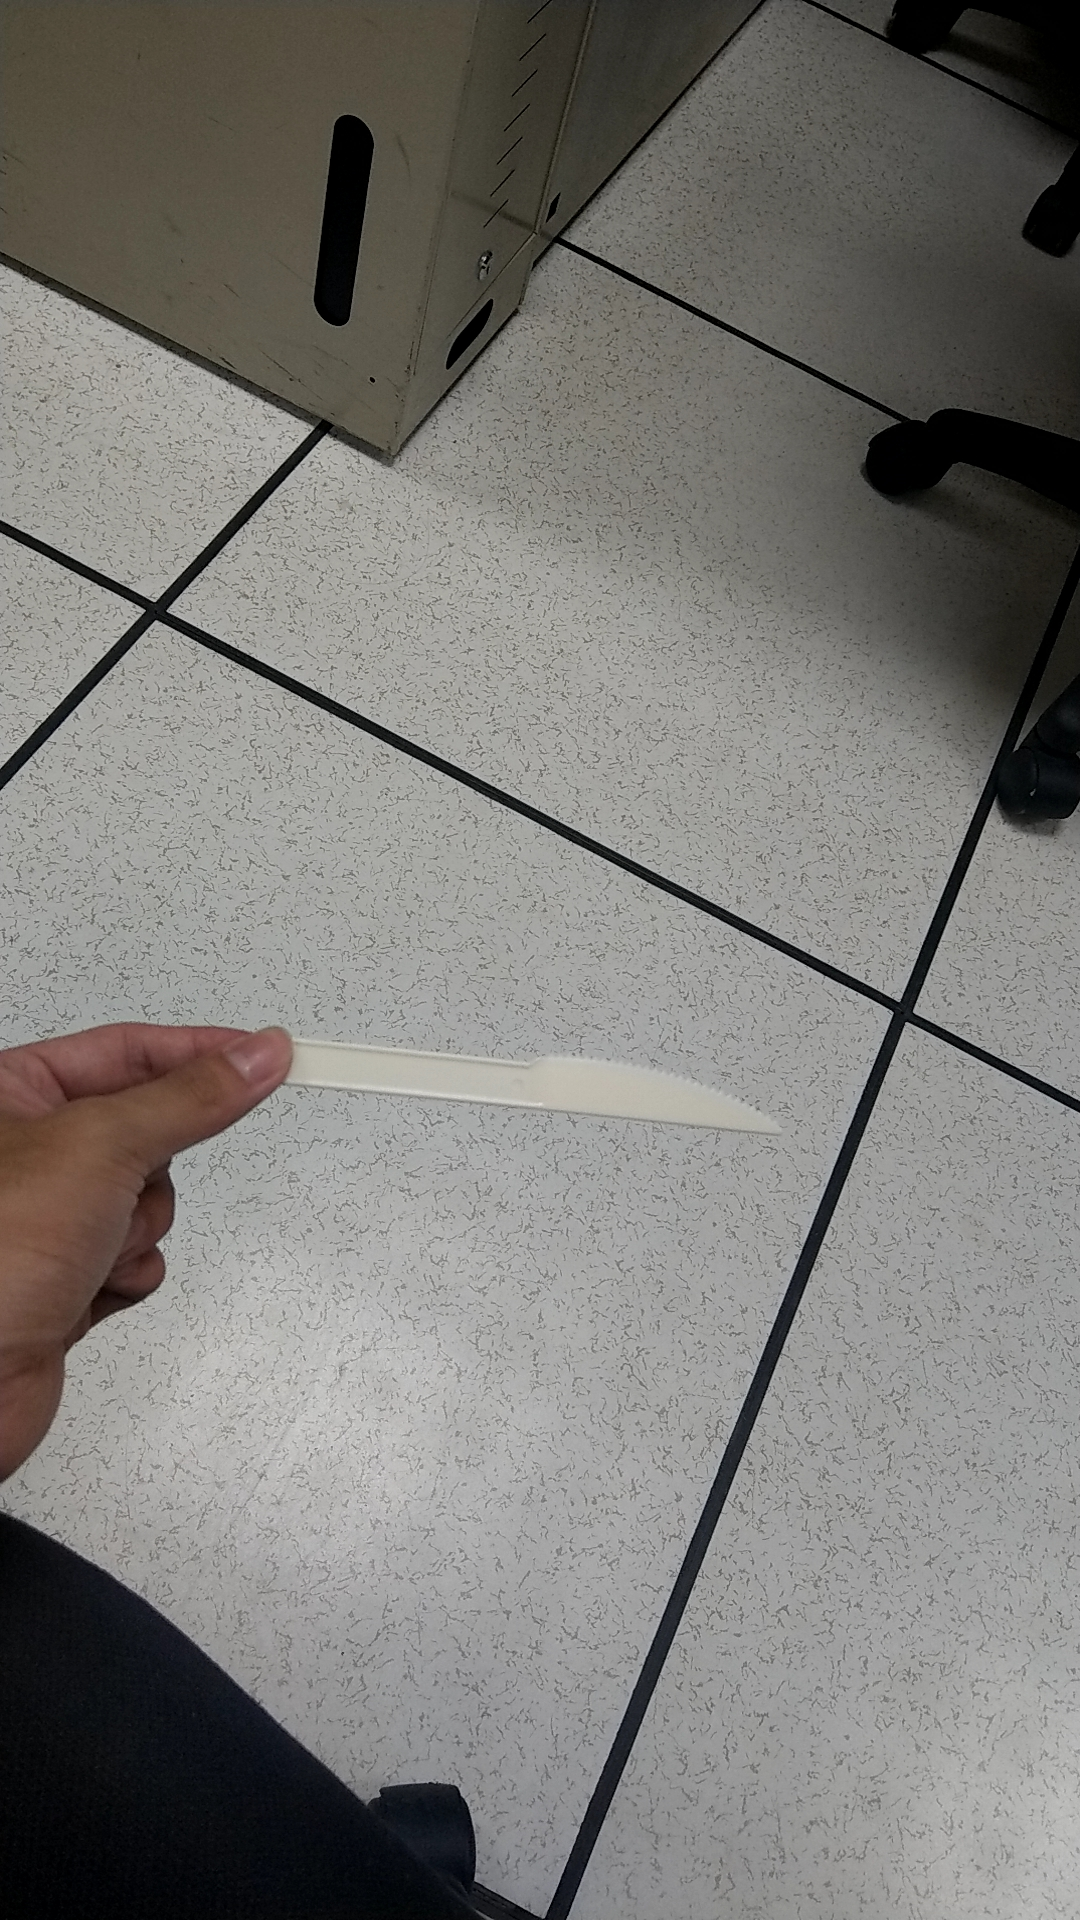knife: (293, 1000, 796, 1168)
